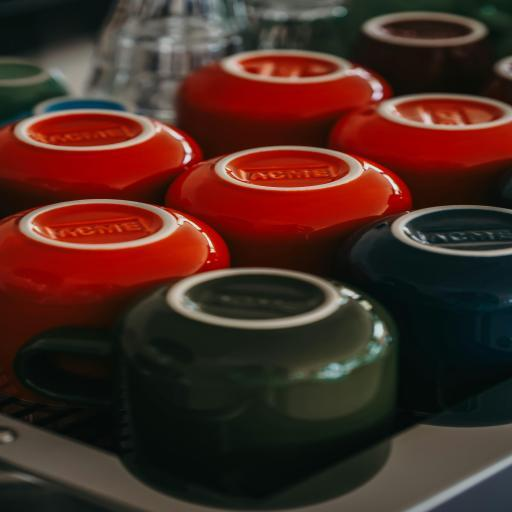cup: (0, 198, 228, 352), (164, 146, 412, 270), (178, 48, 392, 160), (331, 92, 512, 206), (0, 108, 203, 208)
